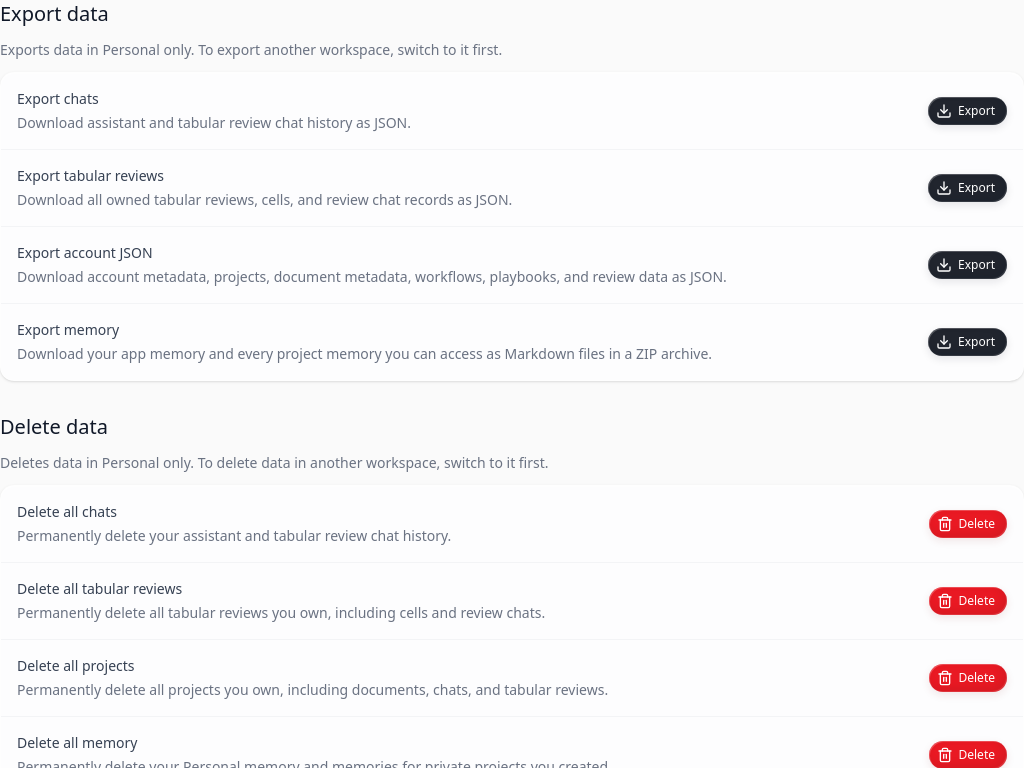
privacy-data async exports › names Personal to someone who also belongs to an organization
Expected: the text "Deletes data in Personal only" is shown, [0,453,549,472]
Click the button named "Delete all memory". click: point(968, 755)
box: [928,741,1007,767]
(page scrolled)
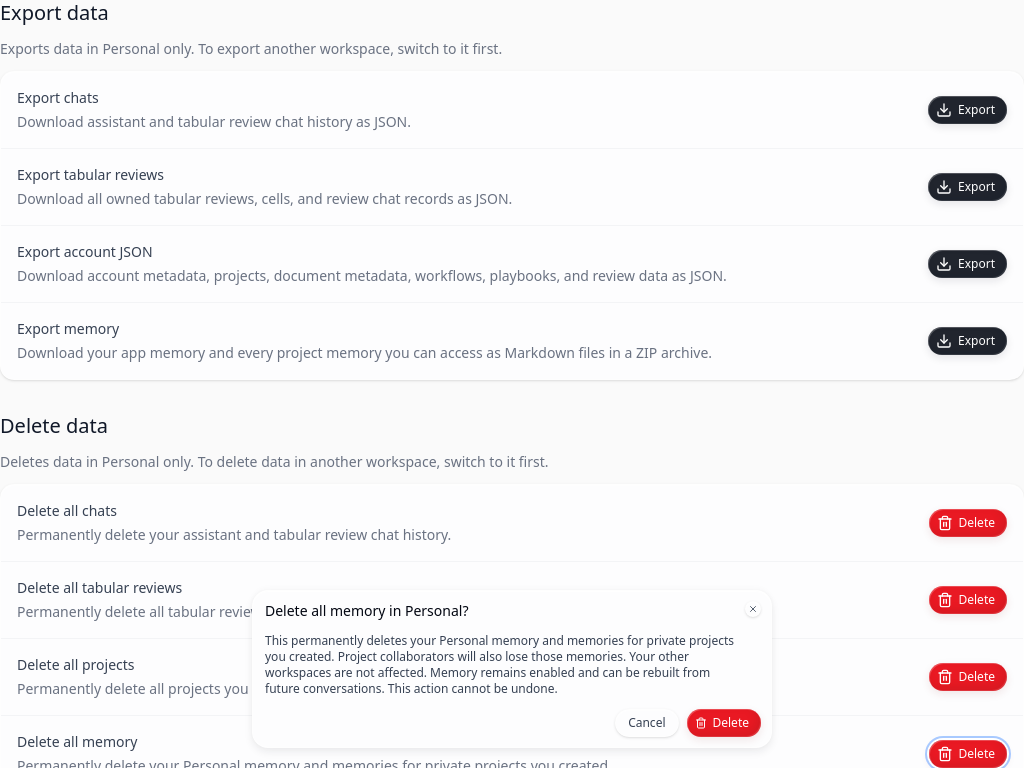
Result: the text "Delete all memory in Personal?" is shown at [265,601,468,620]
Result: the text "This permanently deletes your Personal memory" is shown at [265,632,734,697]
